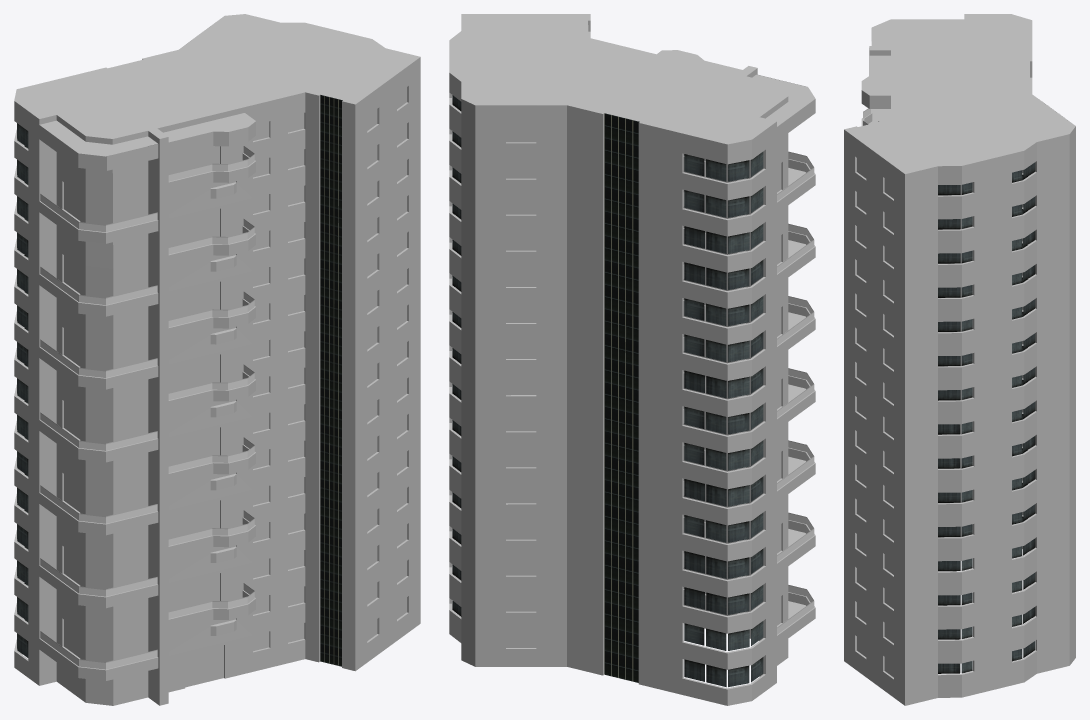
The picture shows the model from 3 angles, left to right: view 1: azimuth 30°, elevation 25°; view 2: azimuth 150°, elevation 25°; view 3: azimuth 270°, elevation 25°; orthographic projection. The views are drawn at different scales.
Parts seen in each view (by area): view 1: BR-024; view 2: BR-024; view 3: BR-024.
Boxes of the visible parts, bbox=[...] form: BR-024: bbox=[14, 14, 420, 705]; BR-024: bbox=[449, 14, 815, 705]; BR-024: bbox=[844, 14, 1075, 705].
Size of what is drawn, in the model's own units: 30.15 by 46.66 by 18.45.
